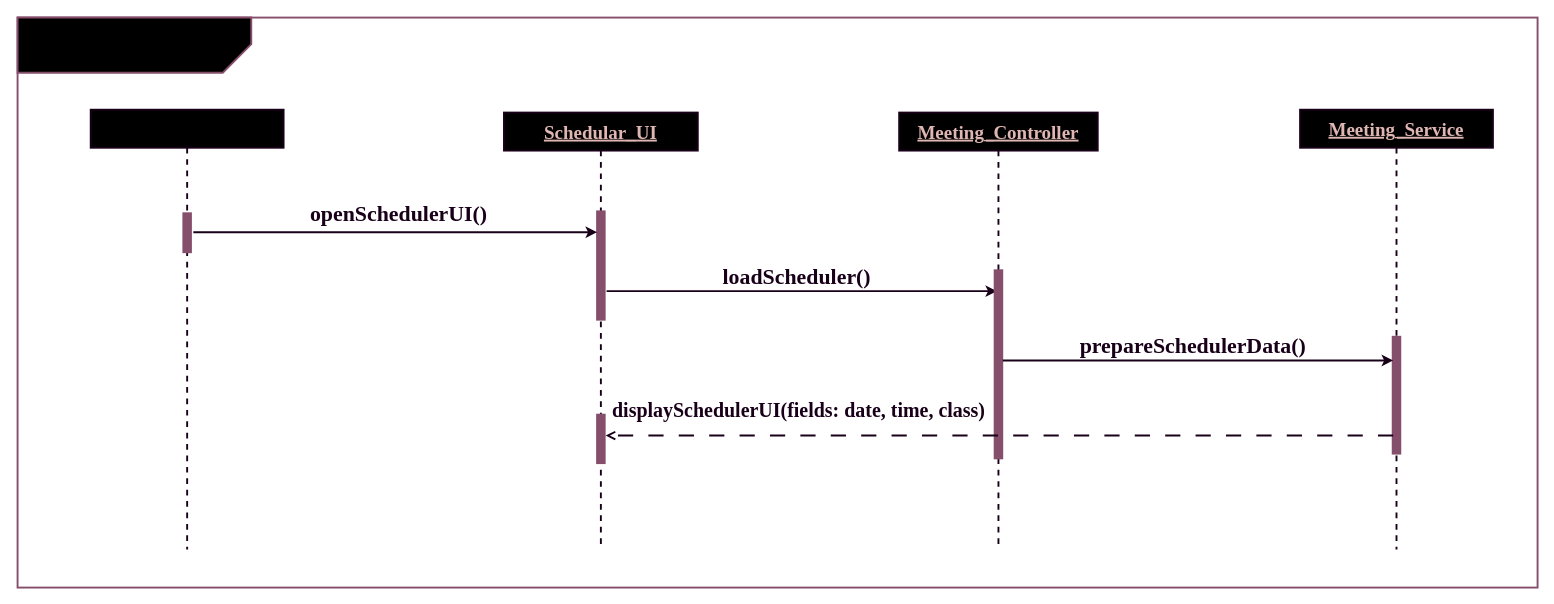
This 1554x604 diagram has some shape labels left out. Here are the shapes that lost their labels. From the top down, the box of each, then its label:
(16, 16, 252, 73): Open Scheduler UI
(89, 108, 284, 550): Teacher
